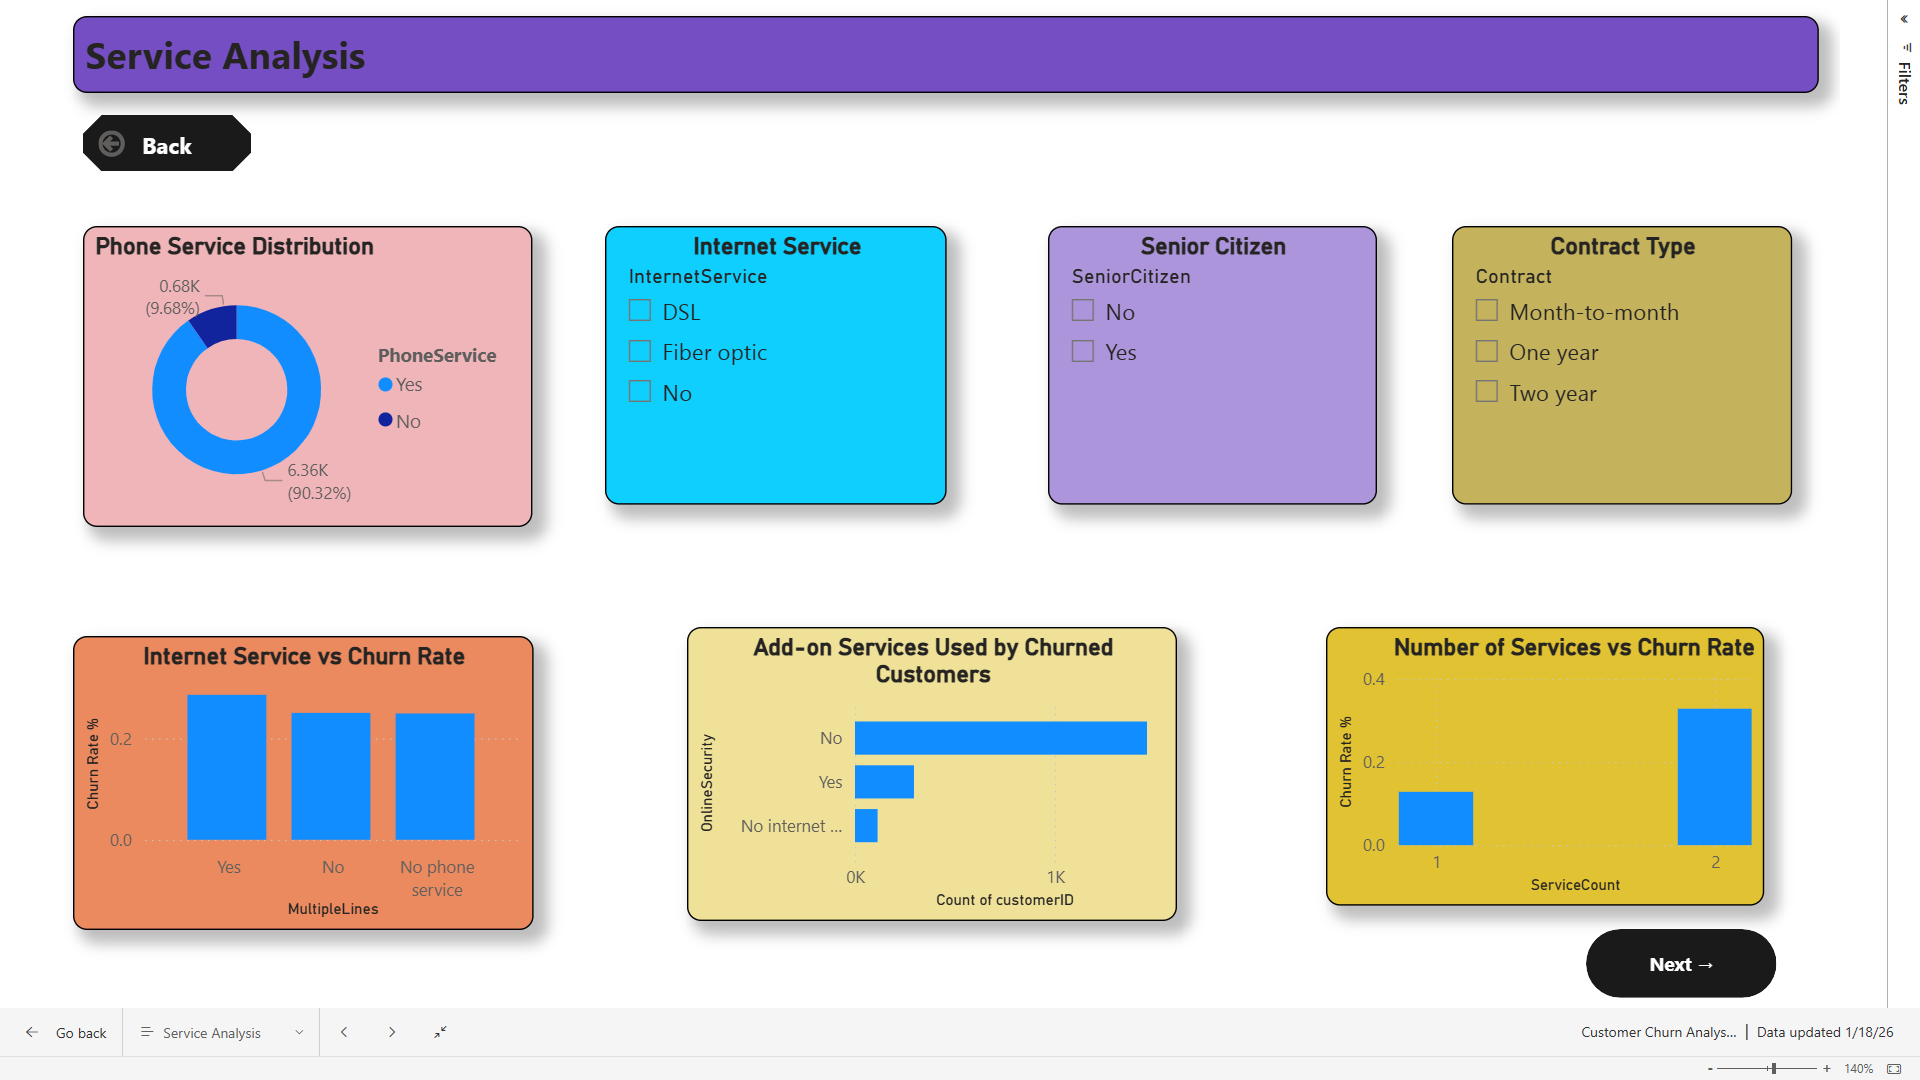

The dashboard page shown, as its layout file describes it:
{"tool":"powerbi","page":{"name":"Service Analysis","canvas":[1280,720],"ordinal":2},"visuals":[{"type":"textbox","box":[17.9,11.6,1247.5,54.6],"z":0},{"type":"actionButton","box":[25.1,82.4,120,40.3],"z":1000},{"type":"actionButton","box":[1098.8,663.6,136.1,49.2],"z":2000},{"type":"donutChart","title":"Phone Service Distribution","fields":{"Category":["Customer.PhoneService"],"Y":["CountNonNull(Customer.customerID)"]},"box":[25.1,161.2,321.5,214.9],"z":3000},{"type":"clusteredColumnChart","title":"Internet Service vs Churn Rate","fields":{"Category":["Customer.MultipleLines"],"Y":["Customer.Churn Rate %"]},"box":[17.9,454,328.7,209.6],"z":4000},{"type":"clusteredBarChart","title":"Add-on Services Used by Churned Customers","fields":{"Category":["Customer.OnlineSecurity"],"Y":["CountNonNull(Customer.customerID)"]},"box":[456.7,447.8,350.1,209.6],"z":5000},{"type":"clusteredColumnChart","title":"Number of Services vs Churn Rate","fields":{"Category":["Customer.ServiceCount"],"Y":["Customer.Churn Rate %"]},"box":[912.5,447.8,313.4,198.8],"z":6000},{"type":"slicer","title":"Internet Service","fields":{"Values":["Customer.InternetService"]},"box":[397.6,161.2,244.5,198.8],"z":7000},{"type":"slicer","title":"Senior Citizen","fields":{"Values":["Customer.SeniorCitizen"]},"box":[714.6,161.2,234.6,198.8],"z":8000},{"type":"slicer","title":"Contract Type","fields":{"Values":["Customer.Contract"]},"box":[1003,161.2,242.7,198.8],"z":9000}]}

Visuals, with their boxes in screenshot pixels (x1, y1, x2, y2):
textbox: [left=61, top=12, right=1840, bottom=89]
actionButton: [left=71, top=113, right=242, bottom=170]
actionButton: [left=1603, top=942, right=1797, bottom=1012]
"Phone Service Distribution" donutChart: [left=71, top=225, right=530, bottom=532]
"Internet Service vs Churn Rate" clusteredColumnChart: [left=61, top=643, right=530, bottom=942]
"Add-on Services Used by Churned Customers" clusteredBarChart: [left=687, top=634, right=1186, bottom=933]
"Number of Services vs Churn Rate" clusteredColumnChart: [left=1337, top=634, right=1784, bottom=918]
"Internet Service" slicer: [left=602, top=225, right=951, bottom=509]
"Senior Citizen" slicer: [left=1055, top=225, right=1389, bottom=509]
"Contract Type" slicer: [left=1466, top=225, right=1812, bottom=509]
